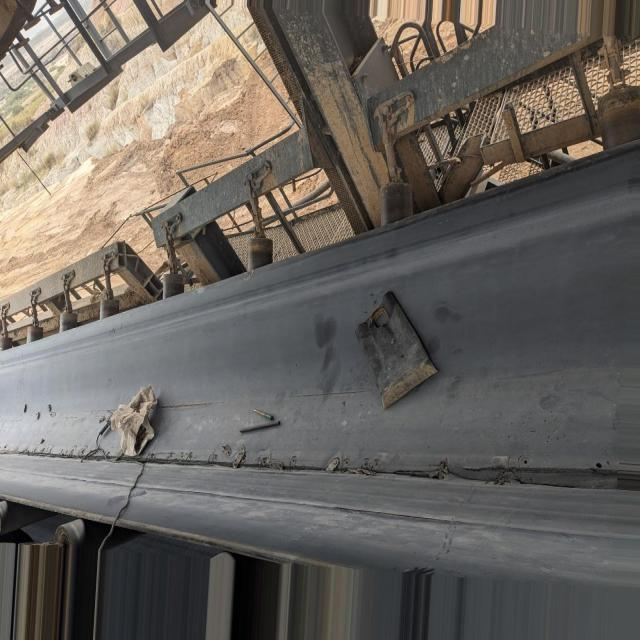Other Objects: (354, 286, 442, 409), (103, 376, 169, 459), (96, 463, 150, 557), (238, 404, 282, 440)
Roller: (0, 498, 45, 528), (57, 516, 93, 542), (249, 238, 277, 266), (59, 305, 81, 334), (162, 268, 183, 298), (101, 296, 119, 315), (24, 326, 46, 341)
Tear: (77, 446, 637, 491)
